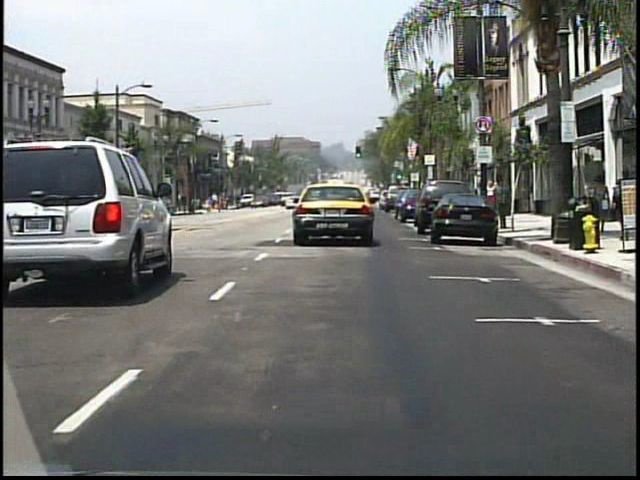person: (588, 173, 609, 212), (486, 180, 497, 215), (235, 194, 243, 210)
